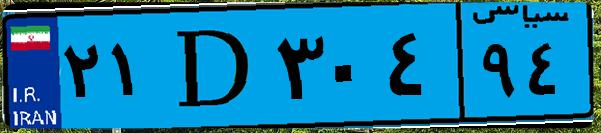0: (330, 28, 385, 110)
1: (110, 28, 158, 98)
2: (57, 26, 110, 100)
3: (270, 28, 330, 110)
4: (385, 28, 445, 110), (525, 38, 570, 115)
9: (475, 38, 525, 113)
D: (158, 12, 270, 120)
